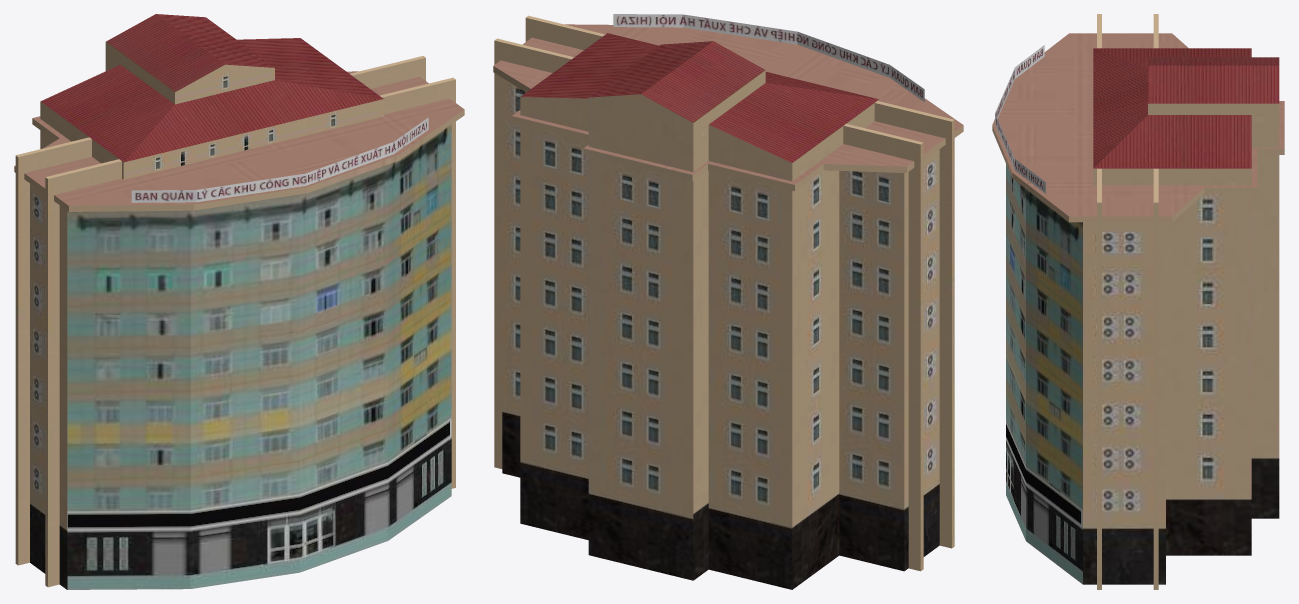
3 renders of one model, left to right at view 1: azimuth 30°, elevation 25°; view 2: azimuth 150°, elevation 25°; view 3: azimuth 270°, elevation 25°, orthographic. The views are drawn at different scales.
Parts seen in each view (by area): view 1: HN1141___Ban_quan_ly_cac_khu_cong_nghiep_va_che_xuat_Ha_Noi; view 2: HN1141___Ban_quan_ly_cac_khu_cong_nghiep_va_che_xuat_Ha_Noi; view 3: HN1141___Ban_quan_ly_cac_khu_cong_nghiep_va_che_xuat_Ha_Noi.
Boxes of the visible parts, x1,y1,x2,y2 form: HN1141___Ban_quan_ly_cac_khu_cong_nghiep_va_che_xuat_Ha_Noi: [14, 14, 464, 589]; HN1141___Ban_quan_ly_cac_khu_cong_nghiep_va_che_xuat_Ha_Noi: [493, 14, 963, 589]; HN1141___Ban_quan_ly_cac_khu_cong_nghiep_va_che_xuat_Ha_Noi: [992, 14, 1284, 589].
Bounding box in the file's own units: 35.13 × 37.3 × 22.99.
Materials: 1 (1 with a texture image).
